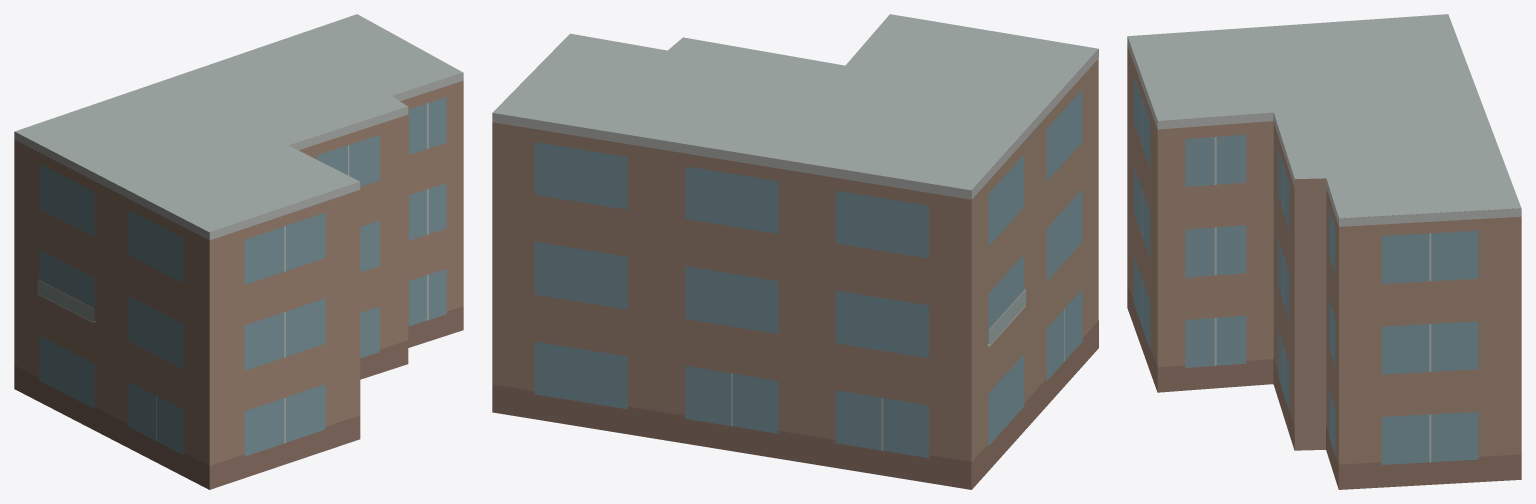
Rendered from survey-upis-32576661.glb.
3 renders of one model, left to right at view 1: azimuth 30°, elevation 25°; view 2: azimuth 150°, elevation 25°; view 3: azimuth 270°, elevation 25°, orthographic. The views are drawn at different scales.
Visible parts, largest first — view 1: survey-upis-32576661.tmp; view 2: survey-upis-32576661.tmp; view 3: survey-upis-32576661.tmp.
Part boxes in pixels (box(x1,y1,x2,y2)): survey-upis-32576661.tmp: box(14, 14, 463, 489); survey-upis-32576661.tmp: box(492, 14, 1098, 489); survey-upis-32576661.tmp: box(1127, 14, 1521, 489).
Bounding box in the file's own units: 12.6 × 7.8 × 10.27.
